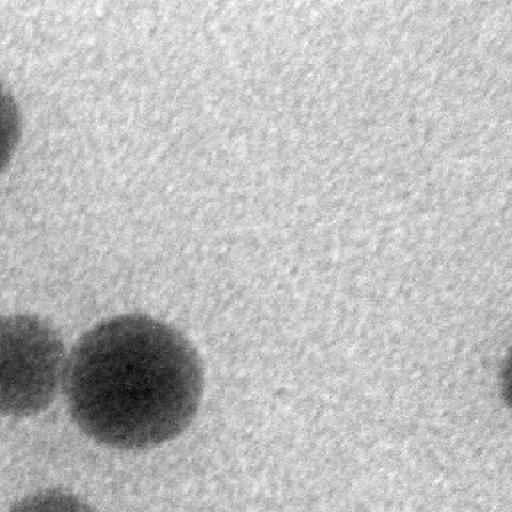Nanoparticles: (60, 309, 208, 453), (0, 310, 65, 420), (10, 484, 100, 512), (0, 80, 23, 172), (502, 347, 512, 410)
